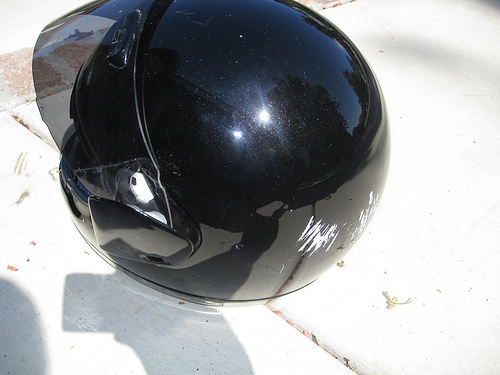helmet: (44, 3, 404, 290)
